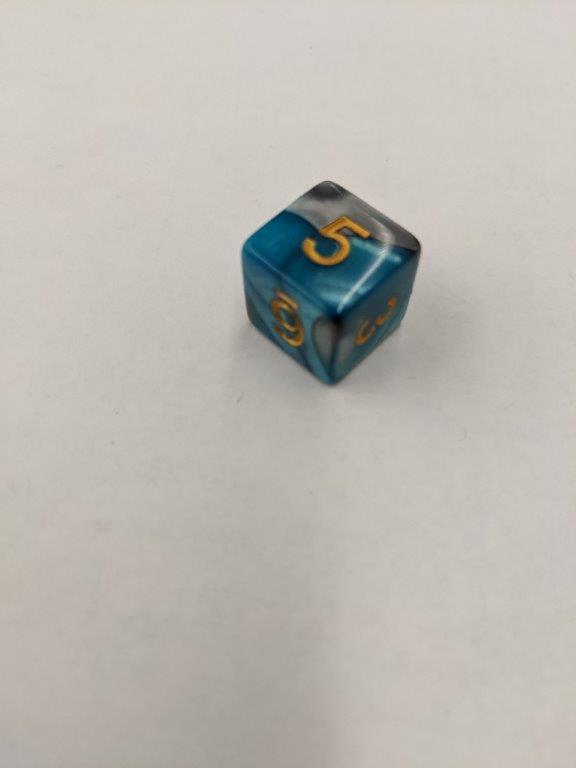d6-5: (241, 177, 421, 384)
